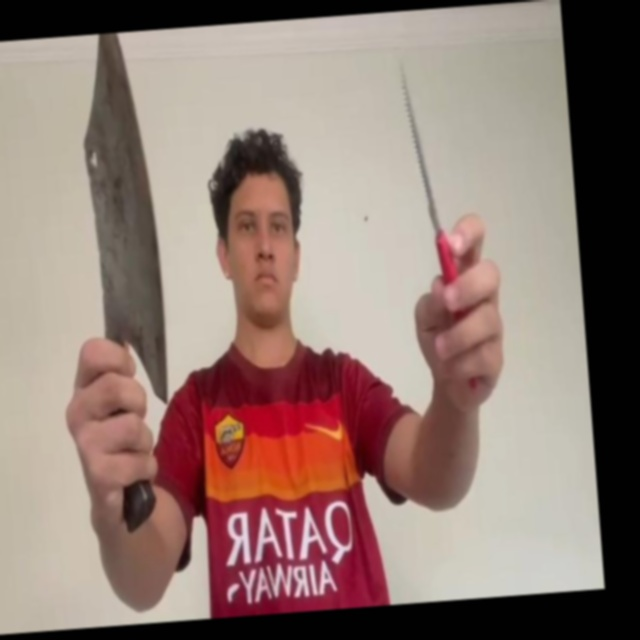Sharp-Object: (73, 31, 172, 412), (398, 56, 441, 238)
